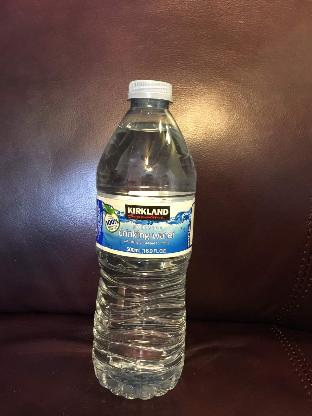Plastic Bottle: (92, 79, 198, 397)
